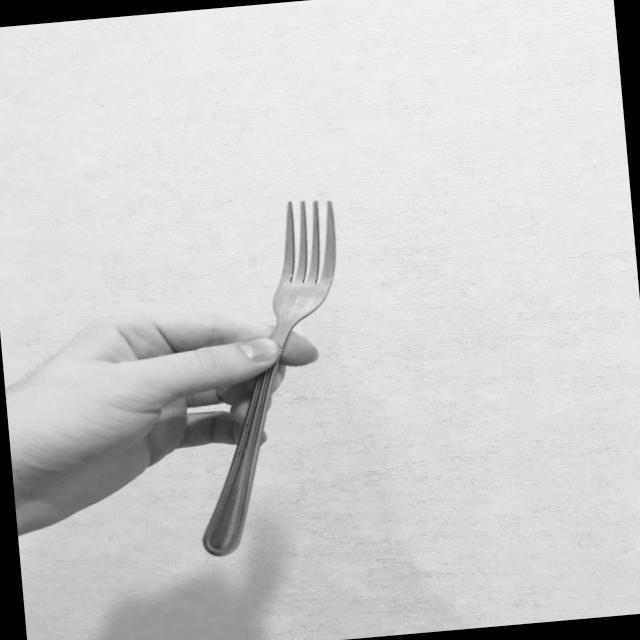fork: (170, 194, 366, 562)
